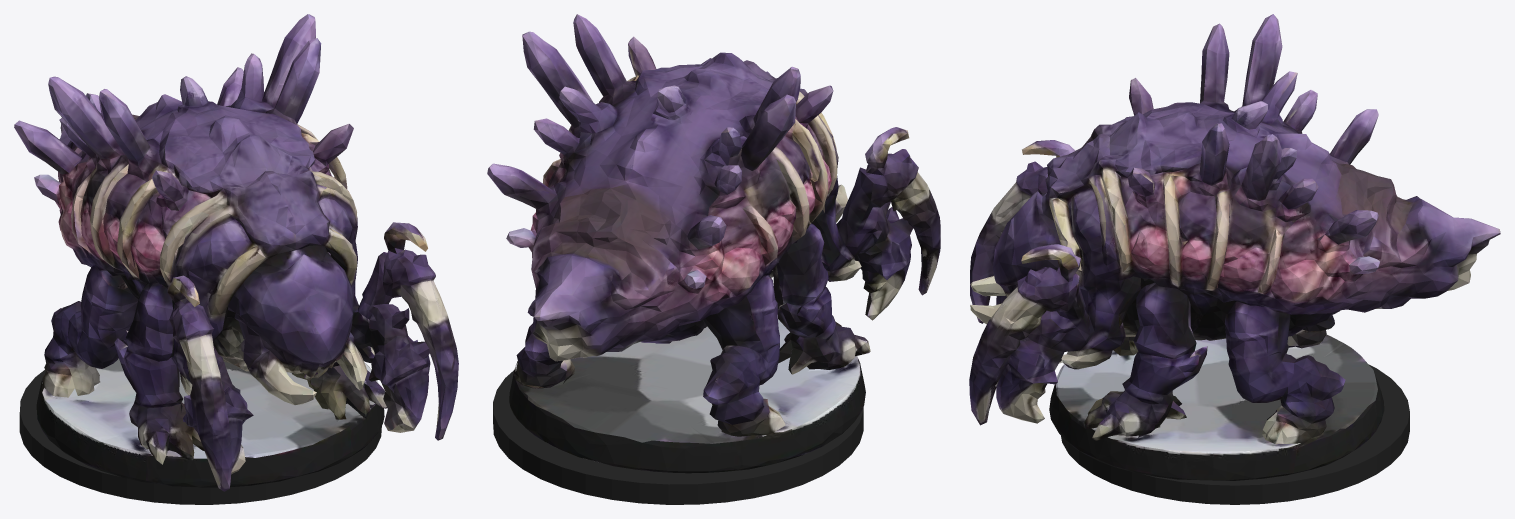
Rendered from corpser.glb.
3 views of the same model, side by side, from view 1: azimuth 30°, elevation 25°; view 2: azimuth 150°, elevation 25°; view 3: azimuth 270°, elevation 25° (orthographic). The views are drawn at different scales.
Visible parts, largest first — view 1: figure, base; view 2: figure, base; view 3: figure, base.
Boxes of the visible parts, <box> form: figure: <box>14,14,458,491</box>; base: <box>19,370,381,504</box>; figure: <box>487,14,940,473</box>; base: <box>493,370,863,504</box>; figure: <box>969,14,1500,480</box>; base: <box>1061,364,1409,504</box>.
Size of the model in its own units: 1.97 by 2.22 by 2.99.
Materials: 2 (1 with a texture image).
